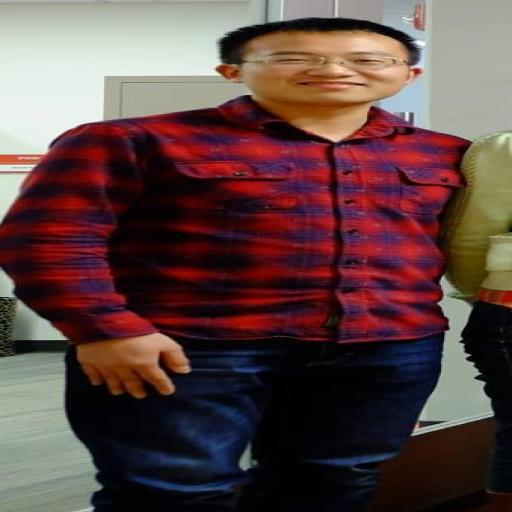person: (0, 18, 468, 511), (445, 132, 511, 511)
